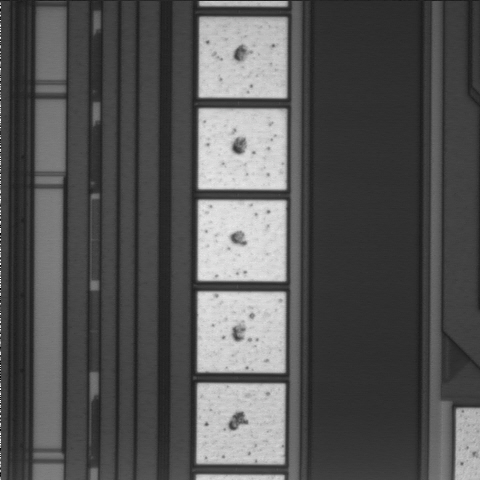pad: (198, 109, 286, 190), (198, 200, 286, 281), (197, 384, 285, 464), (199, 18, 286, 98), (198, 292, 285, 372)
